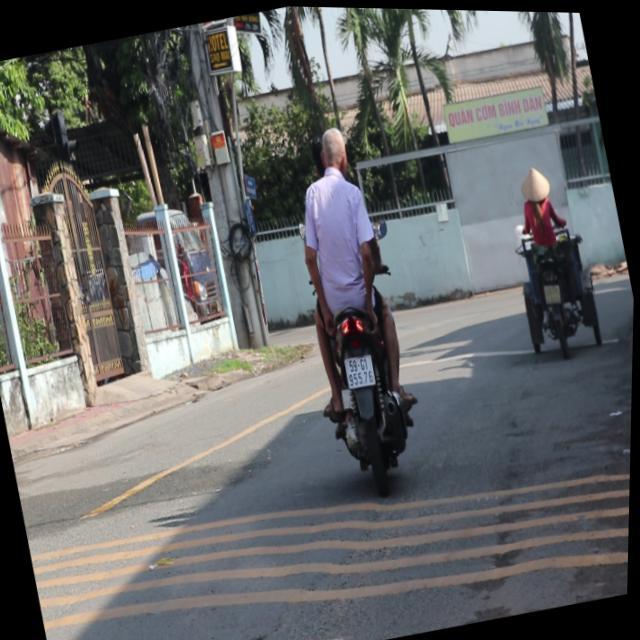licenseplate: (262, 114, 439, 493)
motorcyclist: (316, 122, 353, 179)
nohelmet: (344, 351, 377, 386)
